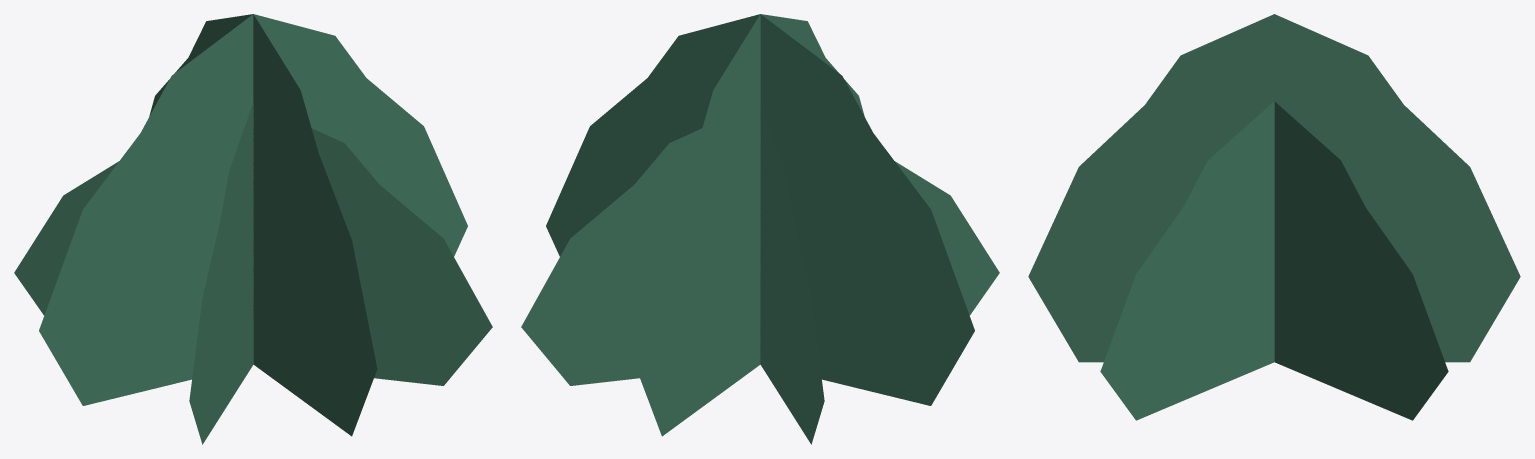
File: naturePack_flat_013.fbx
3 renders of one model, left to right at view 1: azimuth 30°, elevation 25°; view 2: azimuth 150°, elevation 25°; view 3: azimuth 270°, elevation 25°, orthographic.
Visible parts, largest first — view 1: Mesh1_Group1 Model; view 2: Mesh1_Group1 Model; view 3: Mesh1_Group1 Model.
Part boxes in pixels (<box>): Mesh1_Group1 Model: <box>14,14,492,444</box>; Mesh1_Group1 Model: <box>521,14,999,444</box>; Mesh1_Group1 Model: <box>1028,14,1520,420</box>.
Size of the model in its own units: 1.1 by 0.8604 by 1.1.
